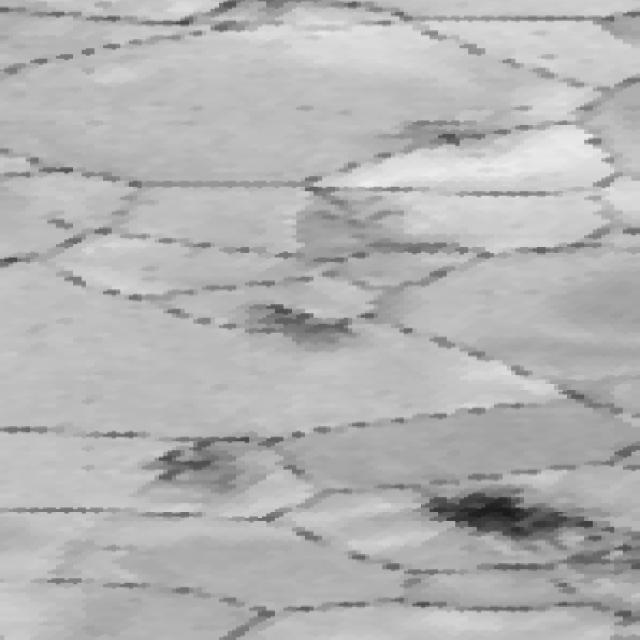good_void: (405, 480, 640, 577), (118, 437, 258, 495), (240, 298, 376, 354), (361, 114, 504, 161), (43, 217, 77, 231), (508, 102, 534, 113), (78, 463, 95, 472)
